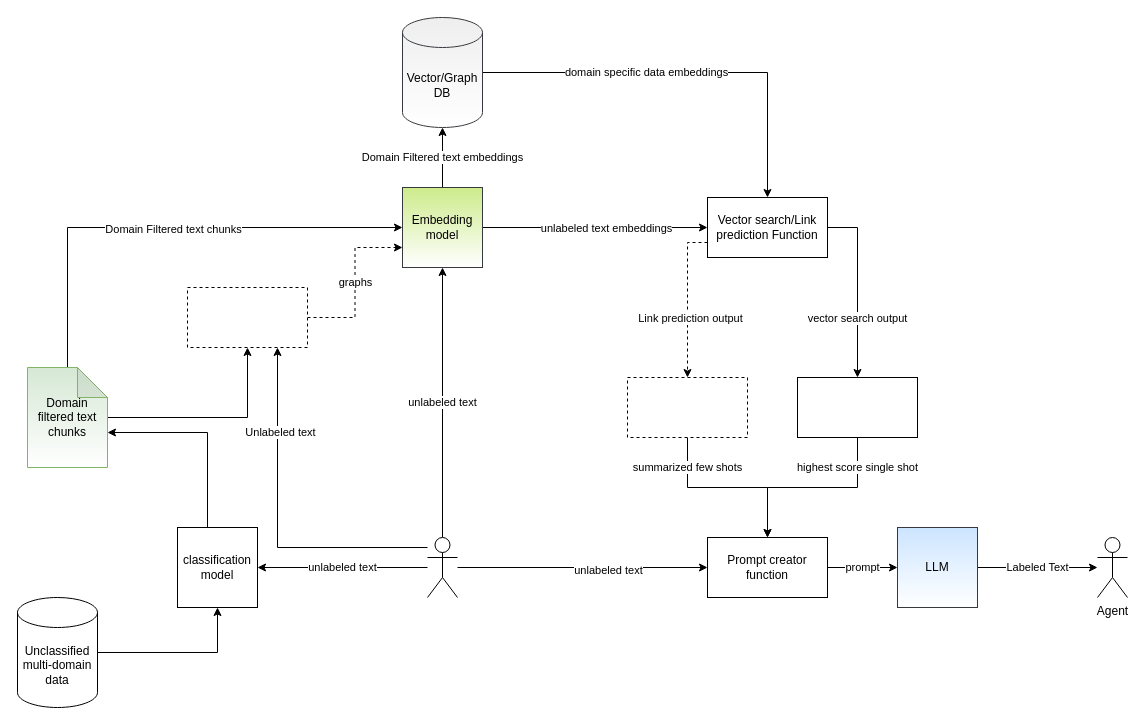
The diagram is 1145 pixels wide and 725 high, and some of its shapes have lost their labels. Here are the shapes that lost their labels. From the top down, the centre of each, then its label:
the point at 247,317: graph creator function
the point at 687,407: graph summarization function (in case of graph)
the point at 857,407: single result filter function
the point at 442,567: User
